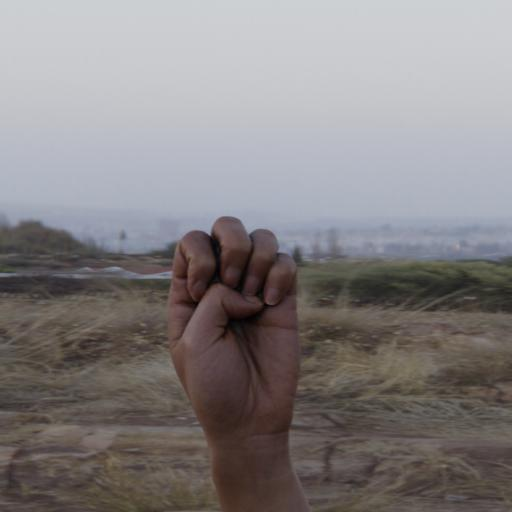E: (146, 197, 320, 458)
